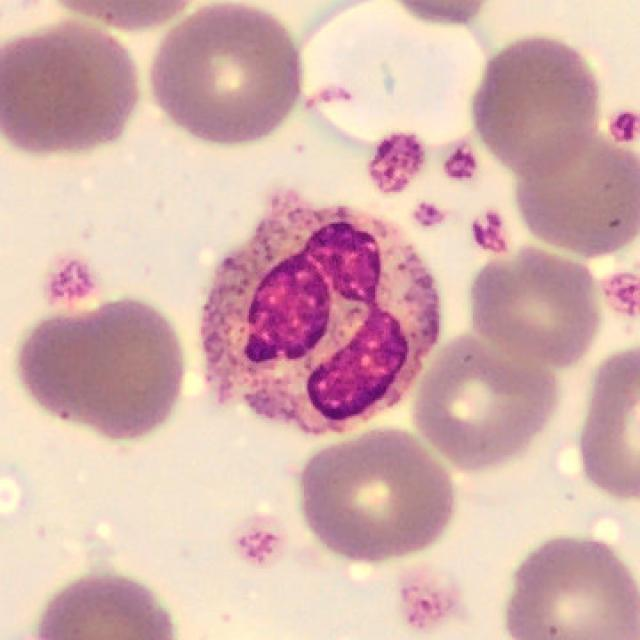Neutrofilo segmentado: (196, 197, 443, 434)
